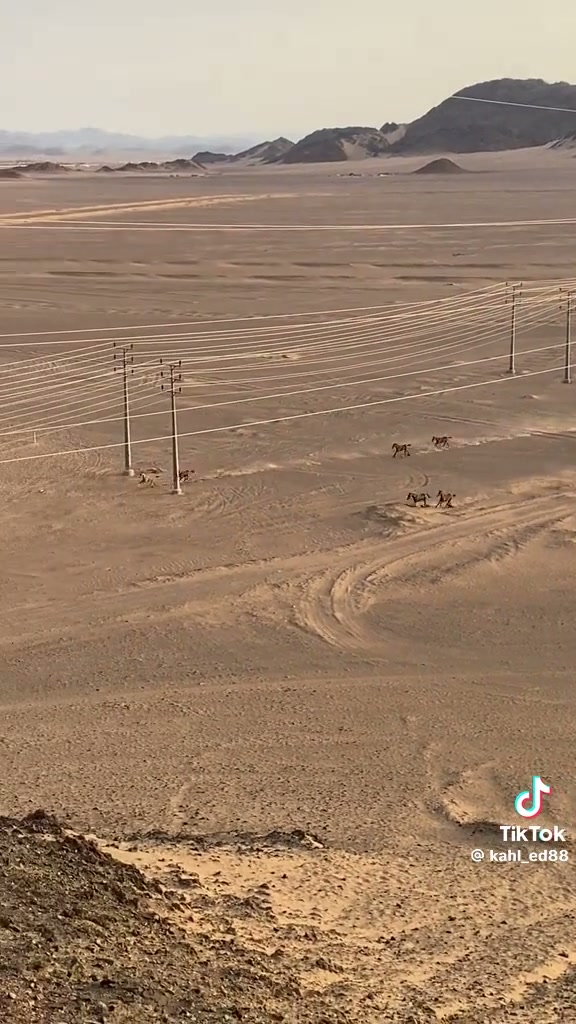animal: (436, 490, 455, 507), (407, 492, 430, 506), (392, 442, 410, 457), (432, 435, 451, 448), (139, 472, 155, 485), (179, 470, 194, 482)
vehicle_track: (293, 494, 573, 660)
